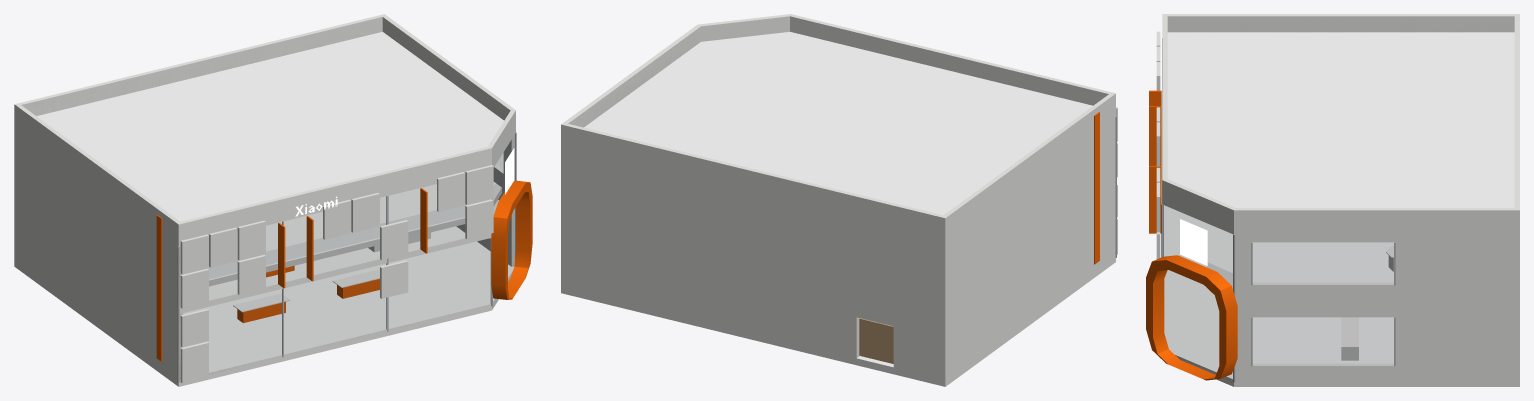
Rendered from xiaomi_flagship_lod2.glb.
The picture shows the model from 3 angles, left to right: view 1: azimuth 30°, elevation 25°; view 2: azimuth 150°, elevation 25°; view 3: azimuth 270°, elevation 25°; orthographic projection. The views are drawn at different scales.
Visible parts, largest first — view 1: P07_LOD2_BUILDING_EXTERIOR_Roof, P07_LOD2_BUILDING_EXTERIOR_Shell, P07_LOD2_GLASS_SYSTEM_FrontGlass, P07_LOD2_BUILDING_INTERIOR_GroundSlab, P07_LOD2_FACADE_DETAILS_ModularPanels, P07_LOD2_BUILDING_INTERIOR_Slabs, P07_LOD2_GLASS_SYSTEM_FrontFrame, P07_LOD2_DISPLAY_OBJECTS_Products, P07_LOD2_GLASS_SYSTEM_CornerGlass, P07_LOD2_SIGNAGE_Brand; view 2: P07_LOD2_BUILDING_EXTERIOR_Shell, P07_LOD2_BUILDING_EXTERIOR_Roof, P07_LOD2_BUILDING_INTERIOR_GroundSlab, P07_LOD2_DISPLAY_OBJECTS_Products; view 3: P07_LOD2_BUILDING_EXTERIOR_Roof, P07_LOD2_BUILDING_EXTERIOR_Shell, P07_LOD2_BUILDING_INTERIOR_GroundSlab, P07_LOD2_BUILDING_INTERIOR_Slabs, P07_LOD2_GLASS_SYSTEM_SideAGlass, P07_LOD2_GLASS_SYSTEM_CornerGlass, P07_LOD2_GLASS_SYSTEM_SideBGlass, P07_LOD2_FACADE_DETAILS_ModularPanels, P07_LOD2_SIGNAGE_Brand, P07_LOD2_DISPLAY_OBJECTS_Products, P07_LOD2_GLASS_SYSTEM_CornerFrame.
Part boxes in pixels (x1,y1,x2,y2): P07_LOD2_BUILDING_EXTERIOR_Roof: (36, 31, 515, 246); P07_LOD2_BUILDING_EXTERIOR_Shell: (14, 14, 532, 381); P07_LOD2_GLASS_SYSTEM_FrontGlass: (183, 185, 490, 371); P07_LOD2_BUILDING_INTERIOR_GroundSlab: (14, 226, 514, 386); P07_LOD2_FACADE_DETAILS_ModularPanels: (180, 165, 493, 383); P07_LOD2_BUILDING_INTERIOR_Slabs: (184, 182, 501, 286); P07_LOD2_GLASS_SYSTEM_FrontFrame: (177, 196, 492, 382); P07_LOD2_DISPLAY_OBJECTS_Products: (233, 232, 430, 323); P07_LOD2_GLASS_SYSTEM_CornerGlass: (493, 136, 514, 300); P07_LOD2_SIGNAGE_Brand: (295, 148, 514, 216); P07_LOD2_BUILDING_EXTERIOR_Shell: (561, 14, 1115, 382); P07_LOD2_BUILDING_EXTERIOR_Roof: (561, 32, 1092, 240); P07_LOD2_BUILDING_INTERIOR_GroundSlab: (561, 258, 1115, 386); P07_LOD2_DISPLAY_OBJECTS_Products: (859, 318, 893, 363); P07_LOD2_BUILDING_EXTERIOR_Roof: (1162, 32, 1518, 234); P07_LOD2_BUILDING_EXTERIOR_Shell: (1146, 14, 1519, 381); P07_LOD2_BUILDING_INTERIOR_GroundSlab: (1164, 205, 1519, 386); P07_LOD2_BUILDING_INTERIOR_Slabs: (1207, 223, 1393, 288); P07_LOD2_GLASS_SYSTEM_SideAGlass: (1253, 318, 1393, 365); P07_LOD2_GLASS_SYSTEM_CornerGlass: (1164, 206, 1232, 378); P07_LOD2_GLASS_SYSTEM_SideBGlass: (1253, 243, 1393, 284); P07_LOD2_FACADE_DETAILS_ModularPanels: (1149, 31, 1161, 259); P07_LOD2_SIGNAGE_Brand: (1180, 219, 1207, 265); P07_LOD2_DISPLAY_OBJECTS_Products: (1341, 246, 1393, 360); P07_LOD2_GLASS_SYSTEM_CornerFrame: (1161, 204, 1235, 382).
Size of the model in its own units: 26.98 by 10.9 by 20.92.
